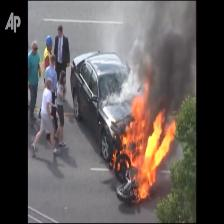fire: (110, 96, 181, 210)
smoke: (117, 0, 196, 116)
